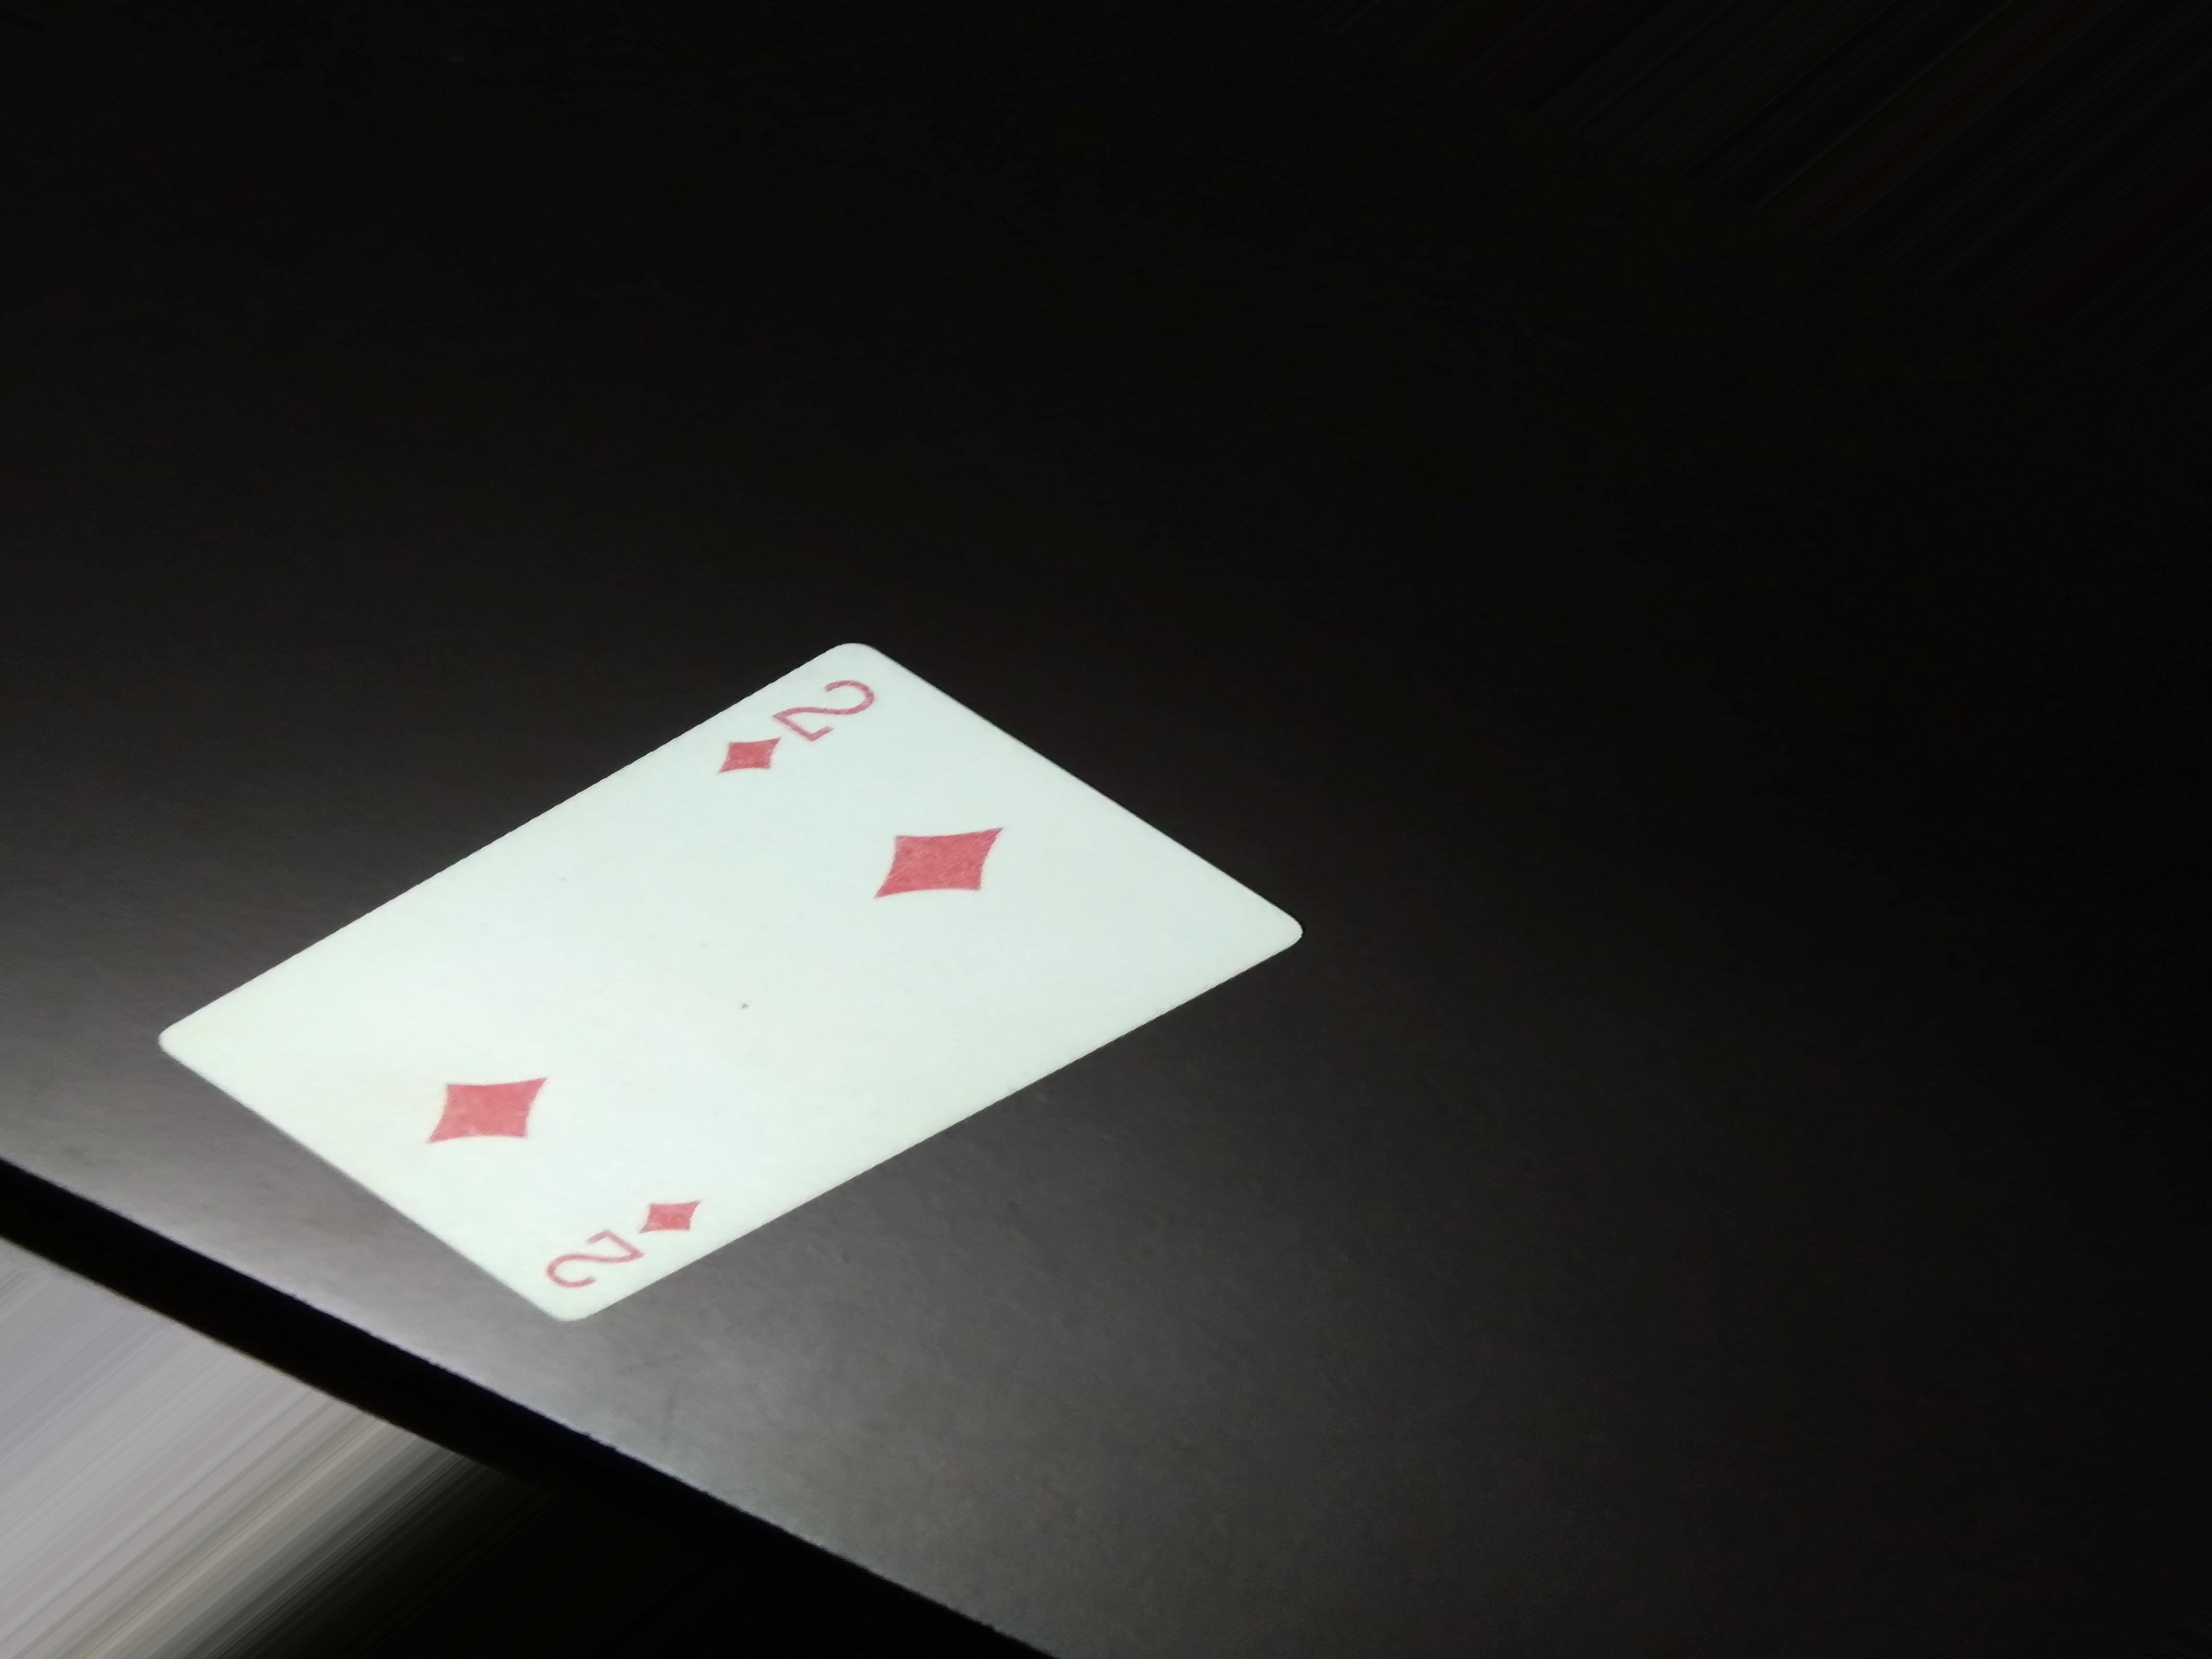2D: (571, 1154, 702, 1310)
